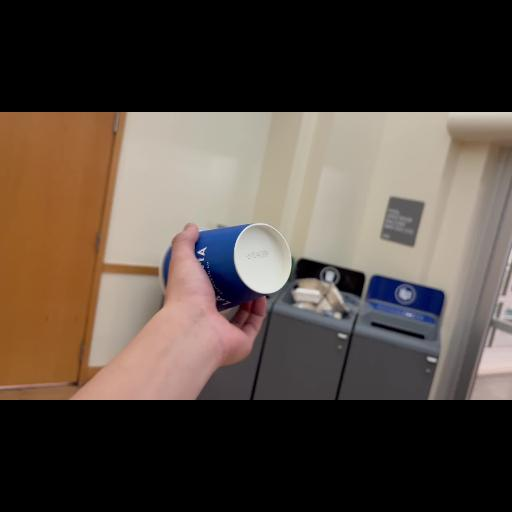lp_paper_cup: (147, 214, 297, 322)
